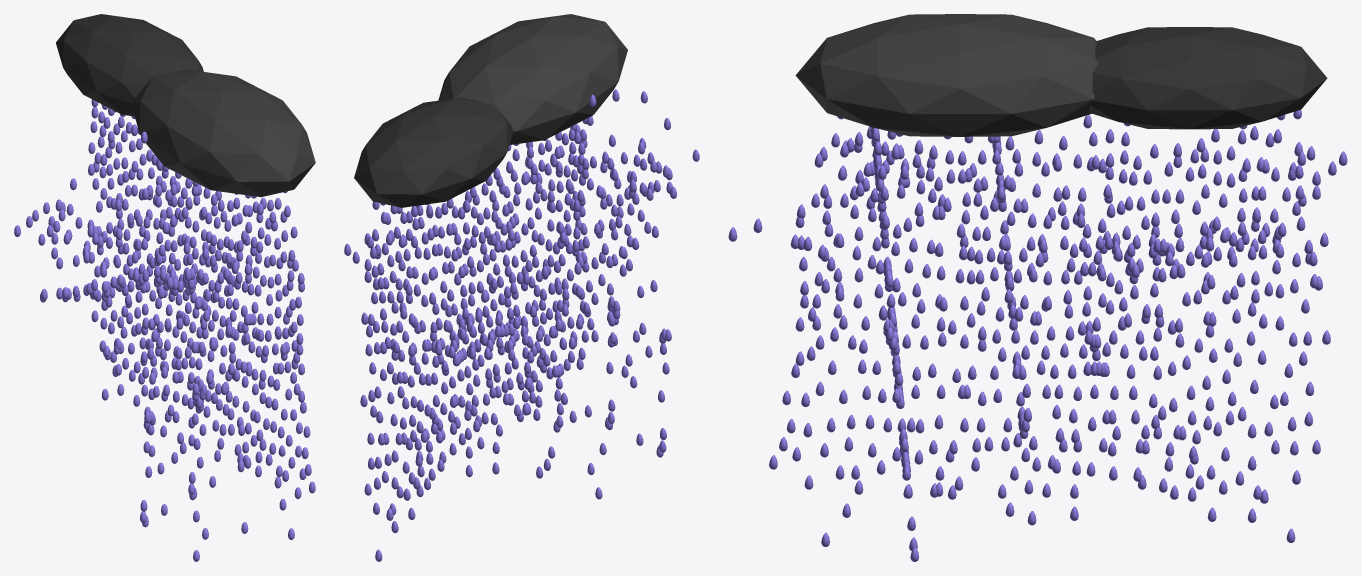
File: acid 5.gltf
3 views of the same model, side by side, from view 1: azimuth 30°, elevation 25°; view 2: azimuth 150°, elevation 25°; view 3: azimuth 270°, elevation 25° (orthographic). The views are drawn at different scales.
Visible parts, largest first — view 1: Rain, Cloud; view 2: Rain, Cloud; view 3: Rain, Cloud.
Boxes of the visible parts, box(x1,y1,x2,y2) form: Rain: box(131, 69, 315, 197); Cloud: box(56, 14, 203, 116); Rain: box(438, 14, 627, 144); Cloud: box(354, 97, 512, 207); Rain: box(795, 14, 1098, 136); Cloud: box(1089, 27, 1327, 129).
Bounding box in the file's own units: 5.44 × 12.98 × 13.11.
